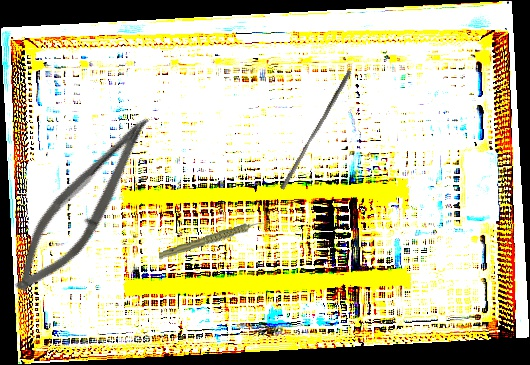Handpiece: (157, 221, 268, 260)
Micro Scissor: (0, 98, 163, 308)
Pusher: (279, 67, 353, 193)
